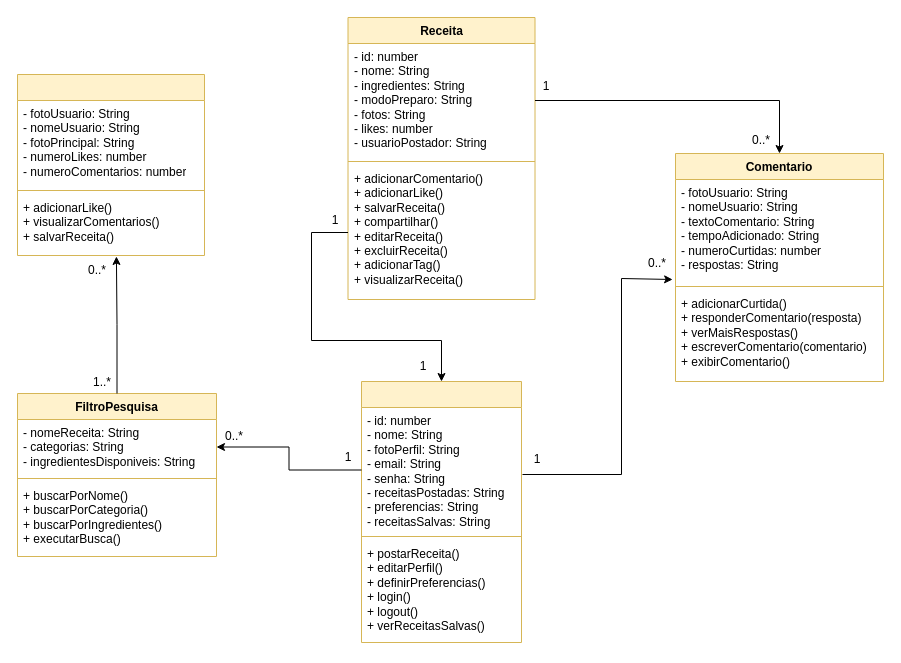
Image size: 901x663. Some labels were removed from this diagram. Here are the shapes that lost their labels. From the top down, the box of each, then its label:
(16, 74, 204, 256): ReceitaFeed
(360, 380, 522, 642): Usuario
